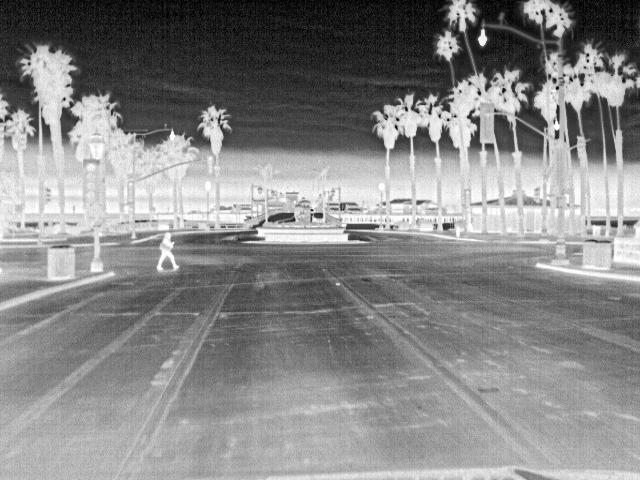car: (310, 212, 327, 224)
person: (153, 231, 181, 271)
